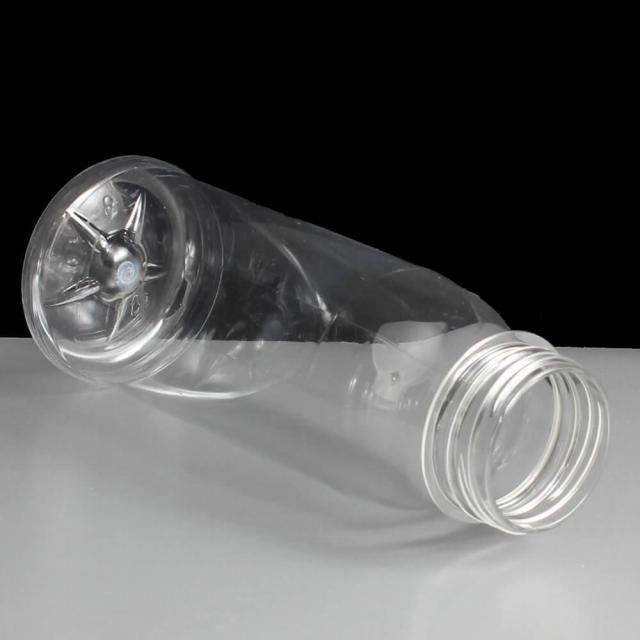plastic_bottle: (17, 155, 626, 589)
